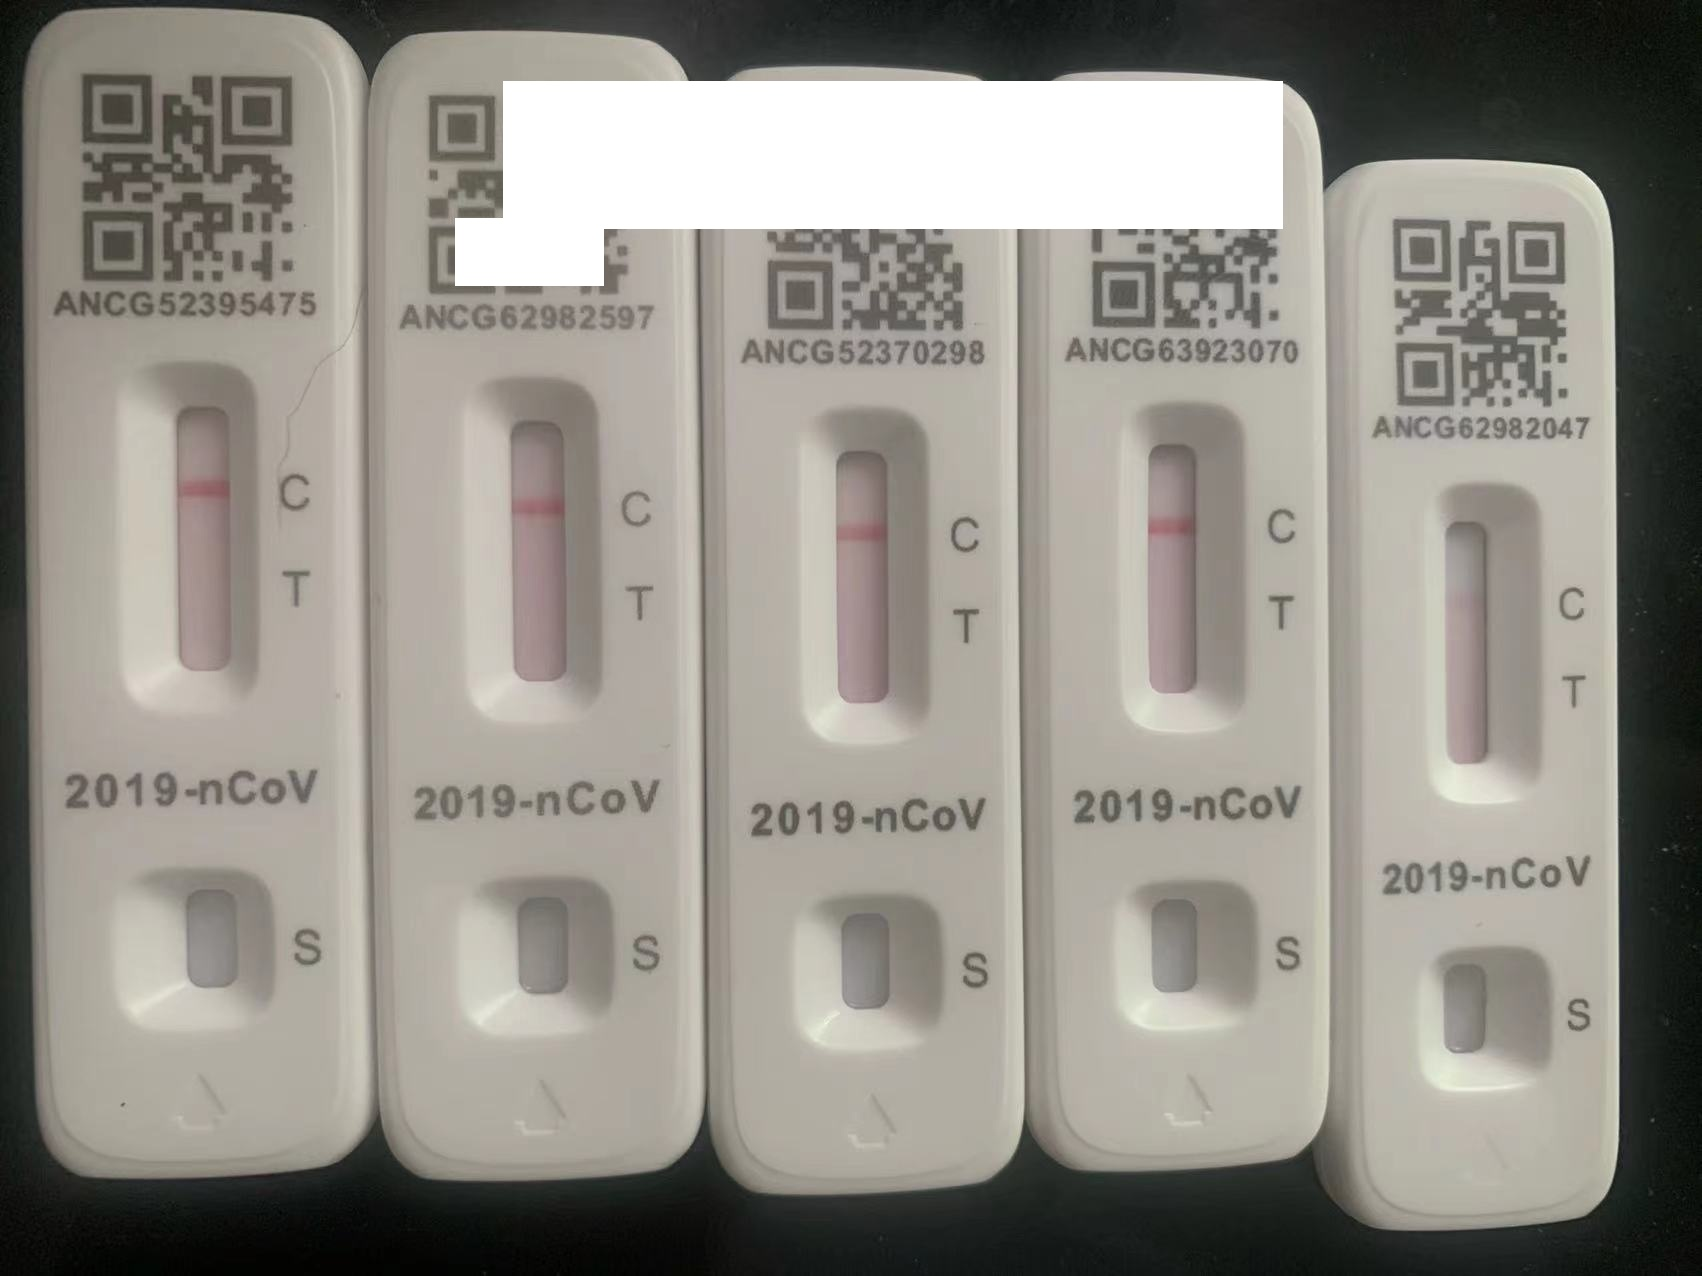negative: (466, 378, 600, 739), (129, 355, 260, 721), (803, 403, 930, 763), (1119, 399, 1242, 747), (1425, 481, 1543, 816)
